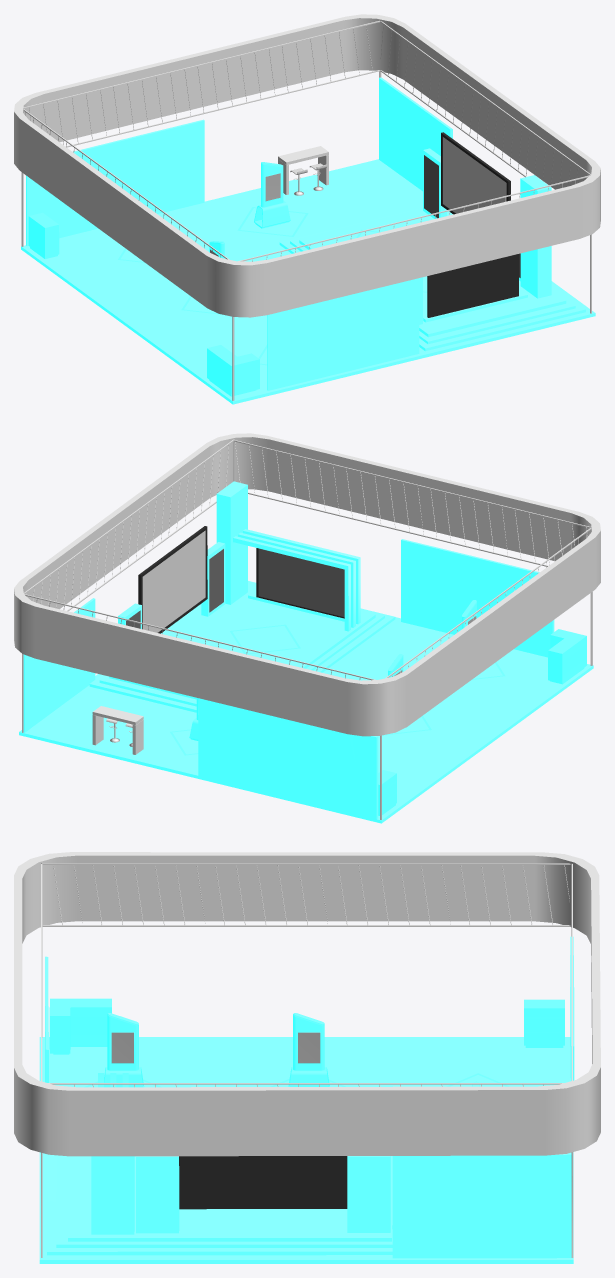
File: Booths 1.fbx
3 views of the same model, one above another, from view 1: azimuth 30°, elevation 25°; view 2: azimuth 150°, elevation 25°; view 3: azimuth 270°, elevation 25° (orthographic). The views are drawn at different scales.
Parts seen in each view (by area): view 1: Booth_Hongkong; view 2: Booth_Hongkong; view 3: Booth_Hongkong.
Boxes of the visible parts, x1,y1,x2,y2 form: Booth_Hongkong: [14, 14, 600, 404]; Booth_Hongkong: [14, 433, 600, 823]; Booth_Hongkong: [14, 852, 600, 1263].
Size of the model in its own units: 1606 by 566 by 1669.
